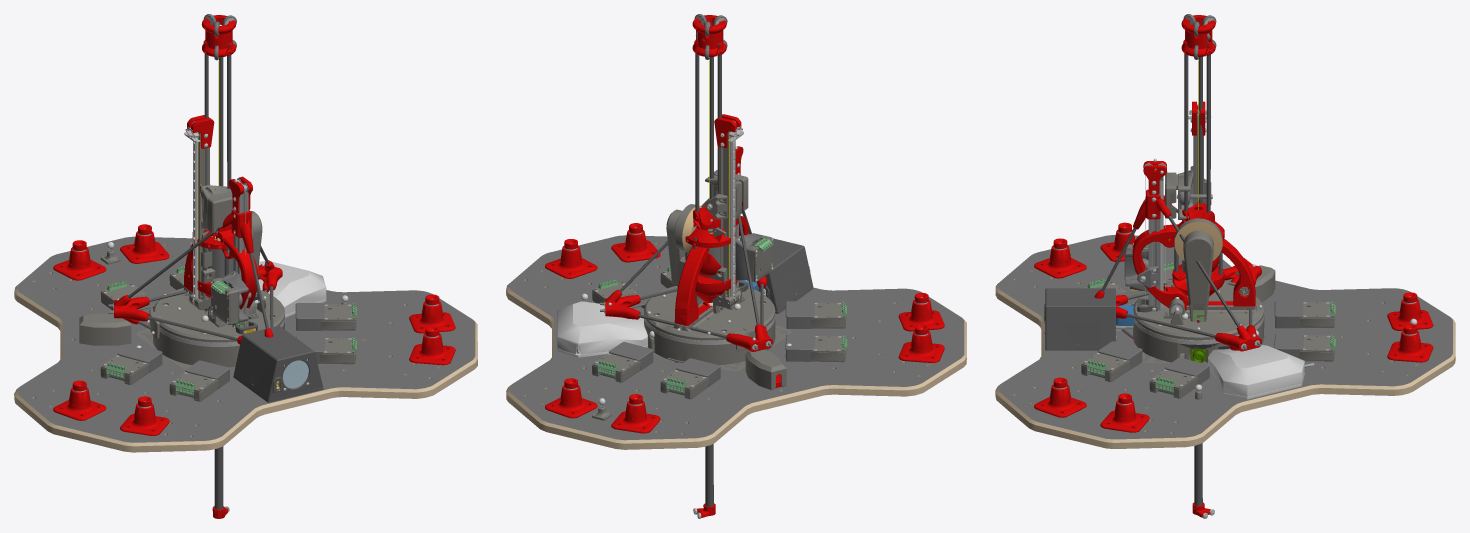
File: robot-parts.glb
3 views of the same model, side by side, from view 1: azimuth 30°, elevation 25°; view 2: azimuth 150°, elevation 25°; view 3: azimuth 270°, elevation 25° (orthographic).
Visible parts, largest first — view 1: jb_base, jb_platform, bb_yaw, bb_pitch, jb_outer, bb_base, jb_inner; view 2: jb_base, bb_pitch, bb_yaw, jb_outer, jb_platform, bb_base, jb_inner; view 3: jb_base, jb_platform, bb_yaw, bb_pitch, jb_outer, bb_base, jb_inner.
Part boxes in pixels (box(x1,y1,x2,y2)): jb_base: box(14, 224, 477, 452); jb_platform: box(108, 176, 282, 344); bb_yaw: box(146, 233, 284, 342); bb_pitch: box(184, 115, 262, 312); jb_outer: box(192, 14, 236, 297); bb_base: box(136, 317, 284, 370); jb_inner: box(212, 446, 229, 518); jb_base: box(506, 223, 966, 449); bb_pitch: box(666, 114, 748, 313); bb_yaw: box(644, 215, 775, 351); jb_outer: box(685, 14, 735, 305); jb_platform: box(600, 146, 773, 351); bb_base: box(644, 314, 791, 370); jb_inner: box(693, 301, 715, 518); jb_base: box(995, 222, 1455, 448); jb_platform: box(1094, 158, 1261, 351); bb_yaw: box(1132, 224, 1264, 340); bb_pitch: box(1165, 101, 1222, 322); jb_outer: box(1172, 14, 1224, 296); bb_base: box(1133, 315, 1264, 363); jb_inner: box(1192, 443, 1214, 518).
Bounding box in the file's own units: 0.9328 × 1.04 × 0.8774.
